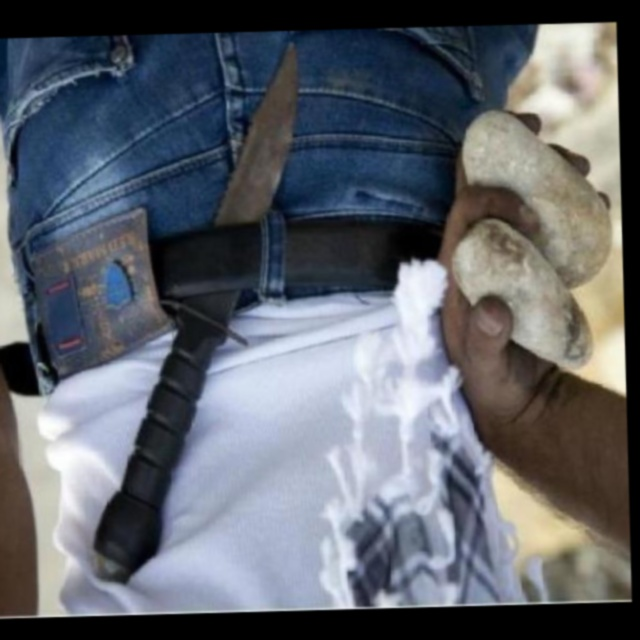Sharp-Object: (77, 46, 313, 581)
